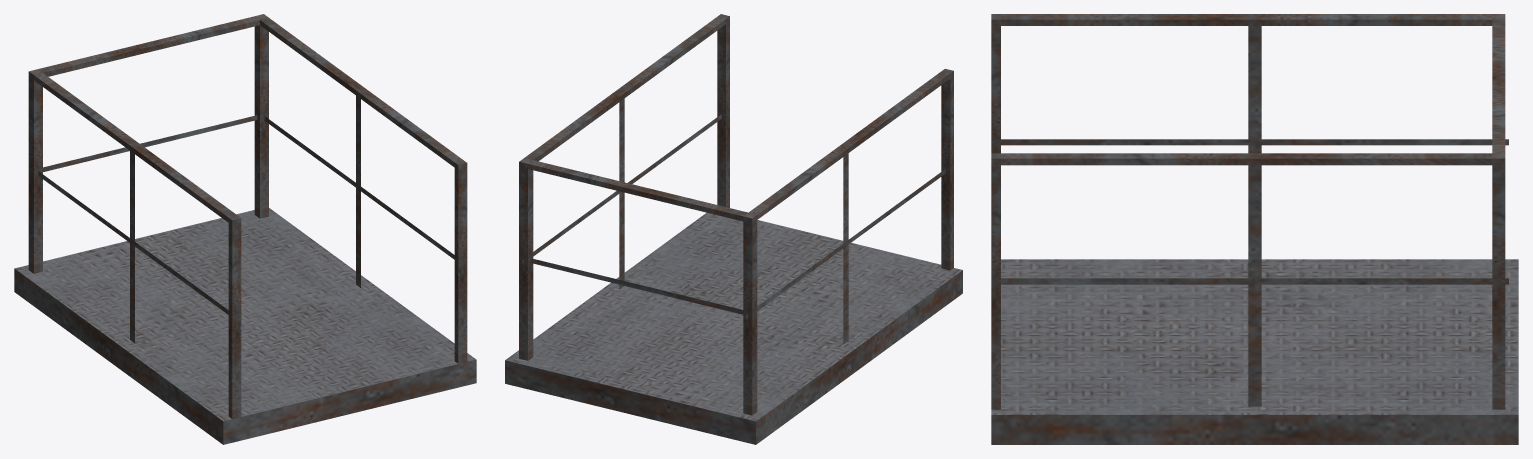
Rendered from mMetalCatwalkFullEnd01.fbx.
The picture shows the model from 3 angles, left to right: view 1: azimuth 30°, elevation 25°; view 2: azimuth 150°, elevation 25°; view 3: azimuth 270°, elevation 25°; orthographic projection. The views are drawn at different scales.
Visible parts, largest first — view 1: MetalCatwalkFullEnd01; view 2: MetalCatwalkFullEnd01; view 3: MetalCatwalkFullEnd01.
Boxes of the visible parts, bbox=[...] form: MetalCatwalkFullEnd01: bbox=[14, 14, 476, 444]; MetalCatwalkFullEnd01: bbox=[505, 14, 962, 444]; MetalCatwalkFullEnd01: bbox=[991, 14, 1518, 444].
Bounding box in the file's own units: 280 × 235 × 400.
